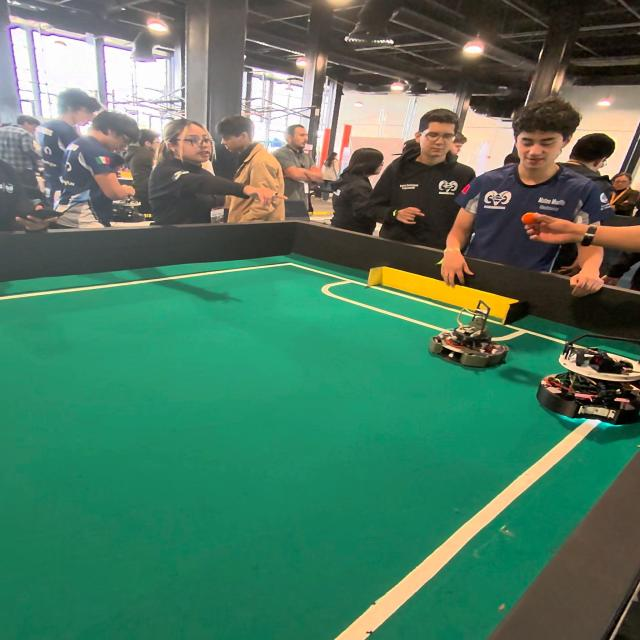Robot: (535, 336, 639, 430), (426, 303, 506, 373)
